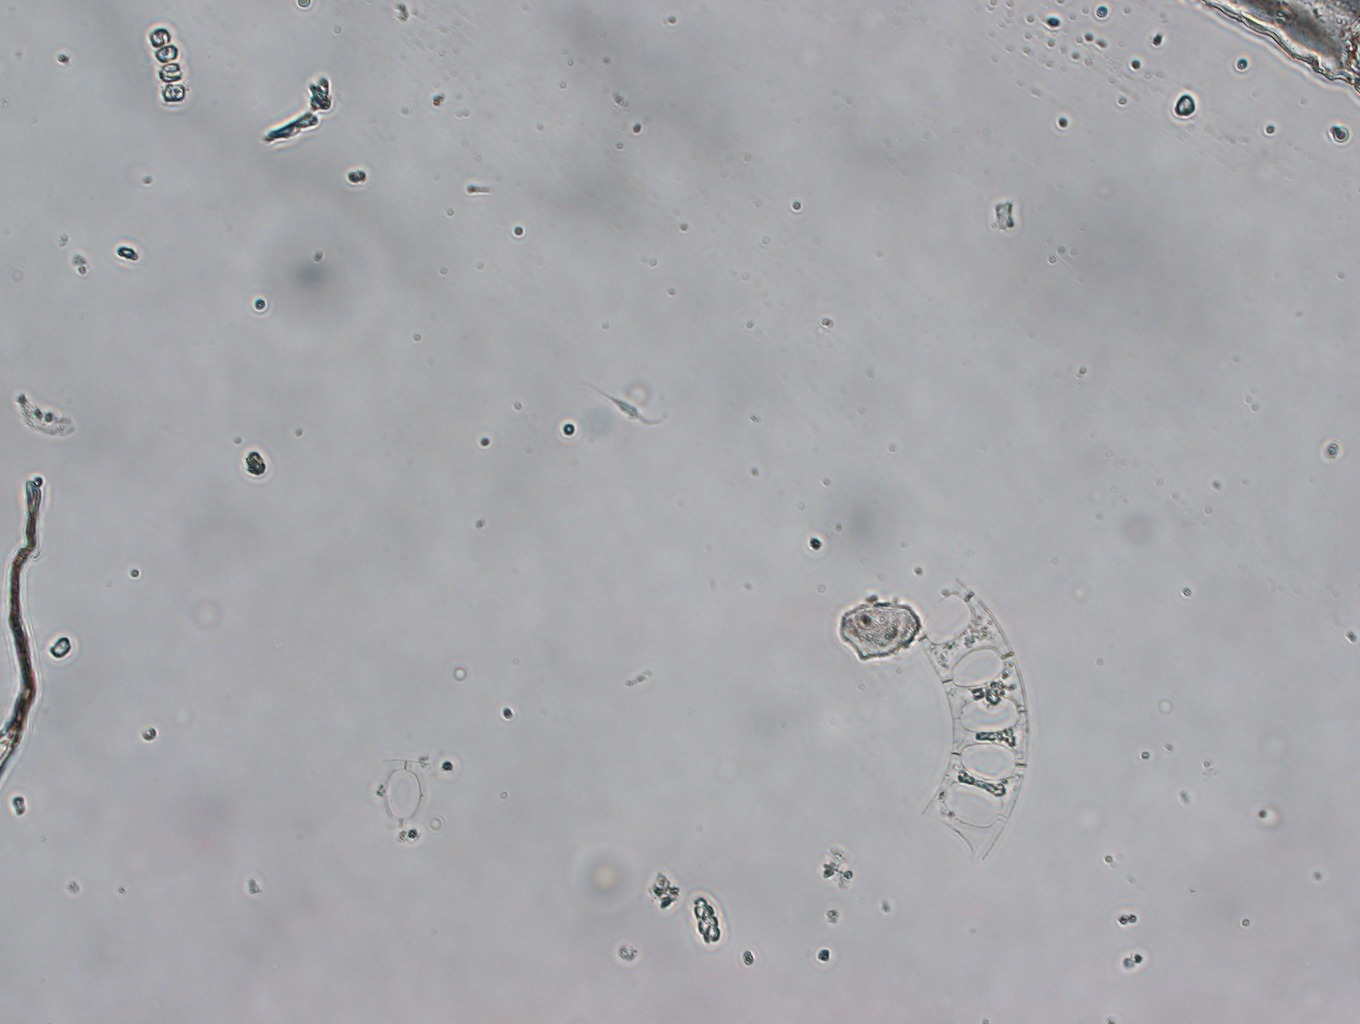eucampia: (906, 577, 1050, 864)
skeletonema: (135, 20, 194, 118)
